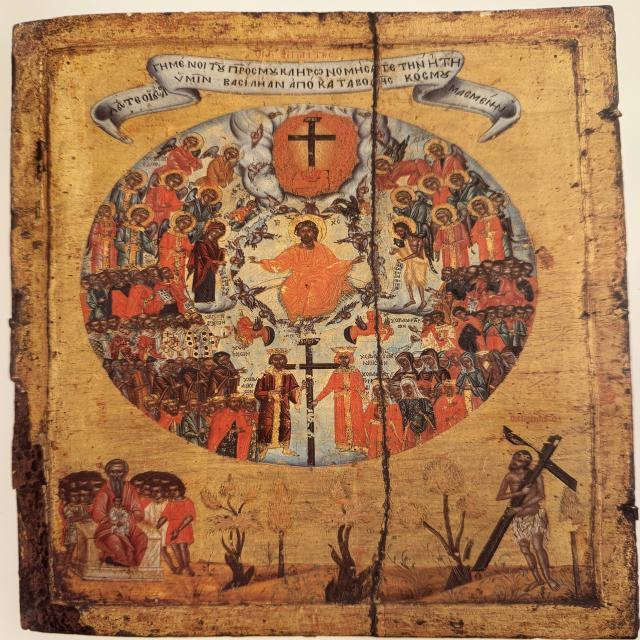aura: (290, 215, 330, 247), (168, 212, 199, 235), (125, 205, 156, 228), (429, 205, 459, 227), (121, 168, 151, 189), (180, 132, 208, 154), (161, 170, 191, 190), (199, 182, 223, 205), (391, 187, 418, 207), (224, 143, 245, 162)
christ_pantocrator: (240, 207, 380, 324)
crown: (263, 344, 295, 358), (331, 347, 360, 356)
